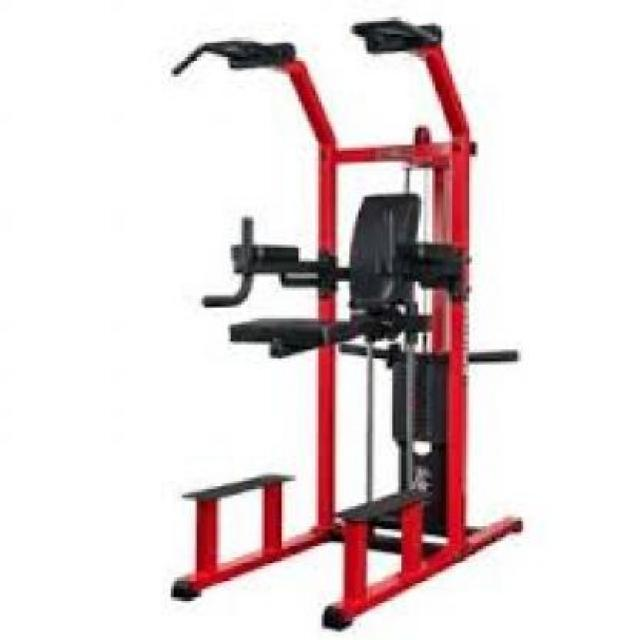chinning dipping: (172, 17, 526, 632)
